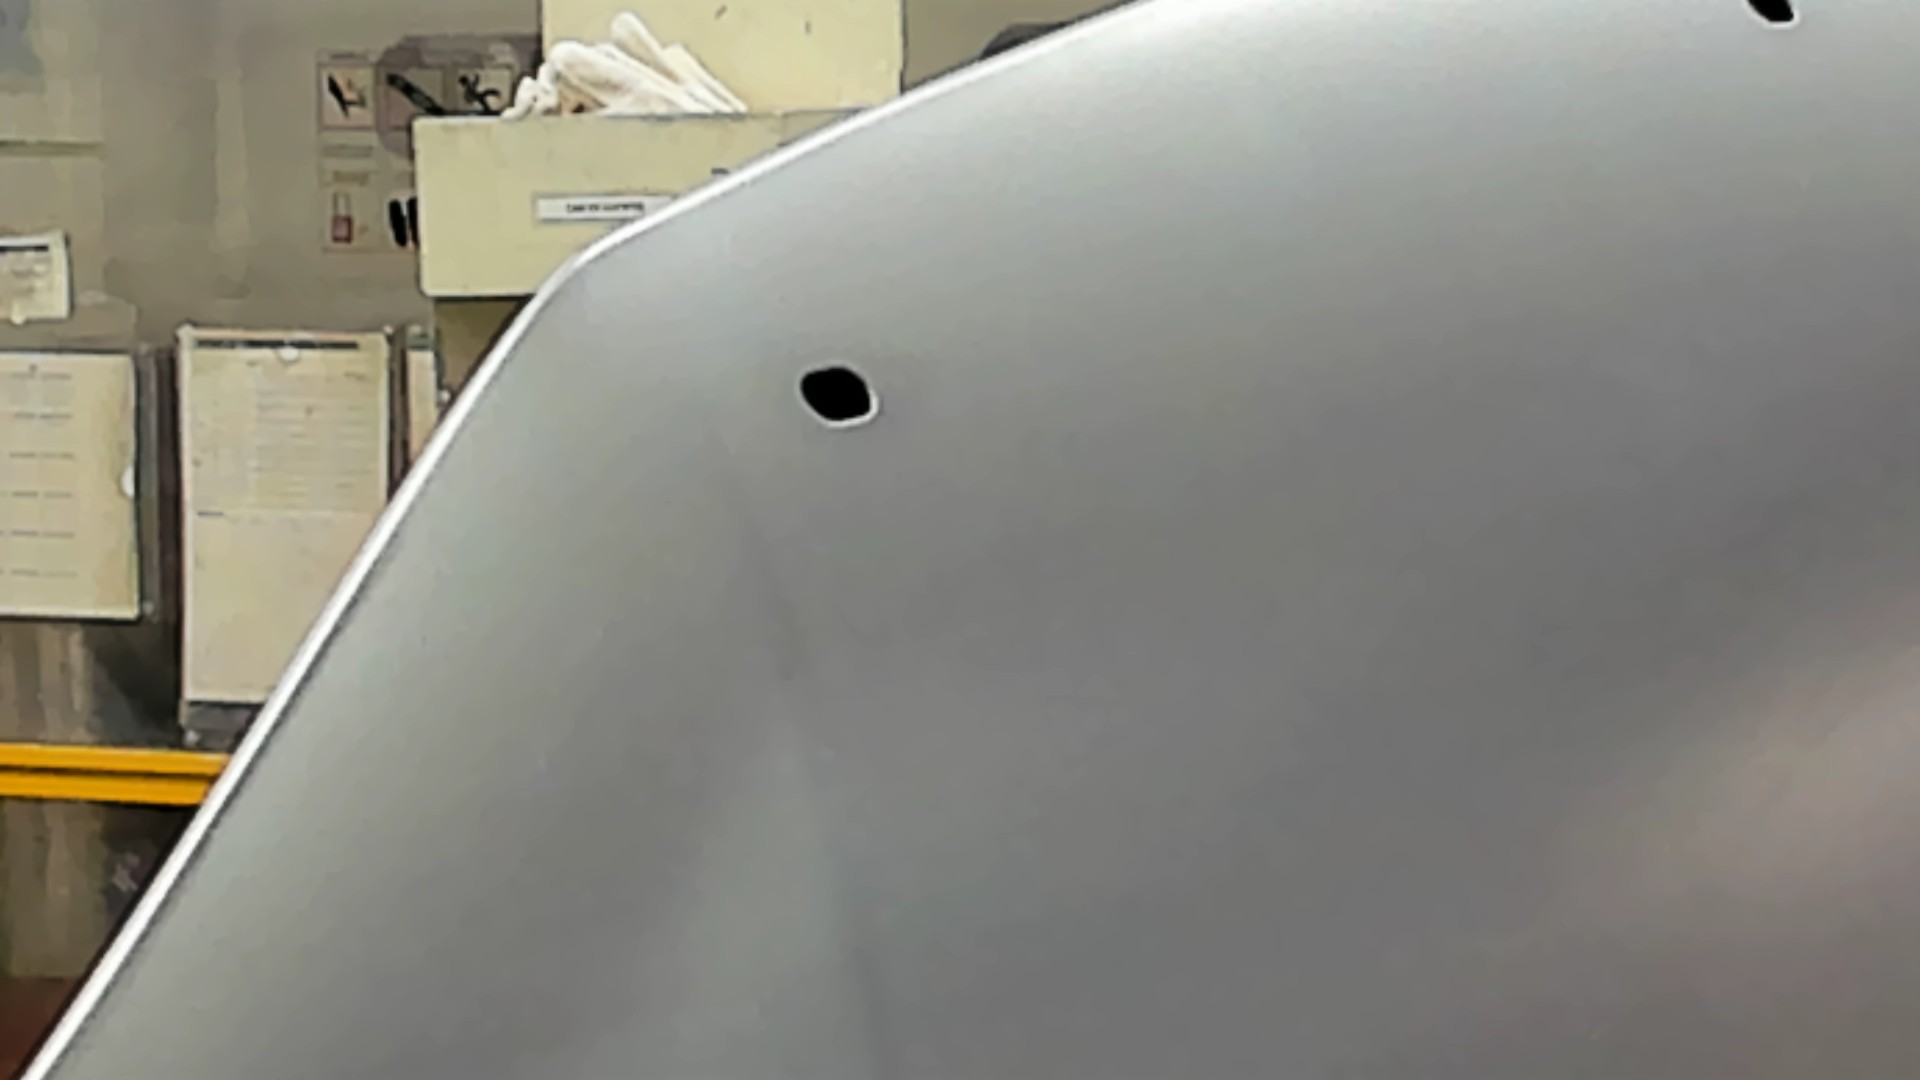amorfo: (786, 356, 891, 436), (1737, 3, 1811, 33)
capo: (963, 105, 1920, 1080)
